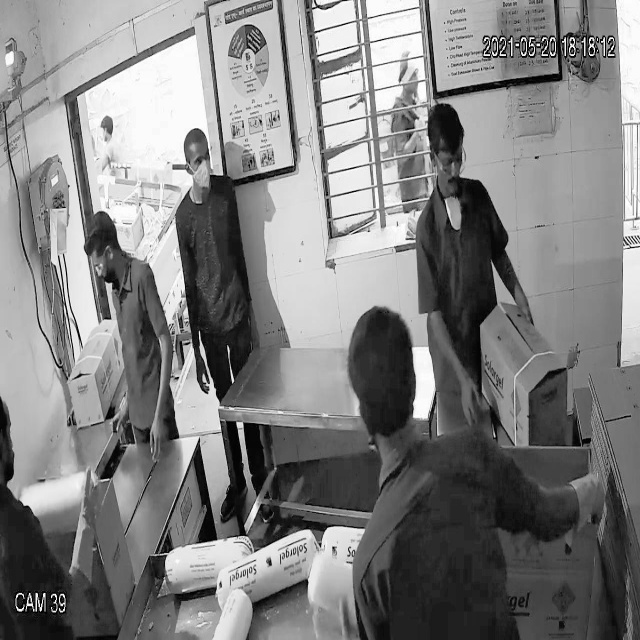Gafas: (425, 144, 470, 174), (89, 248, 114, 276)
Sin_gafas: (181, 150, 214, 172)
